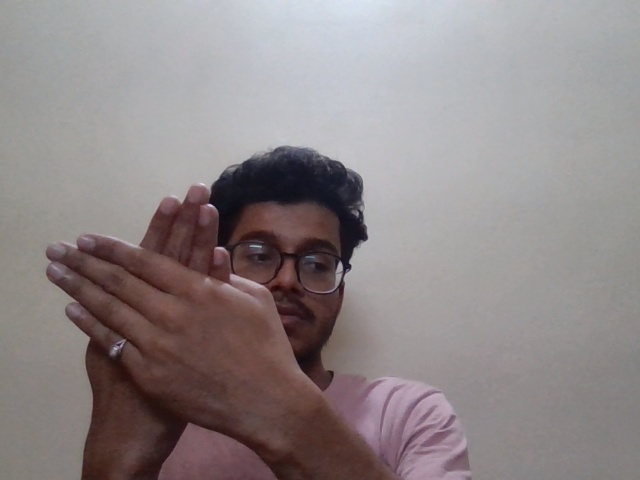what: (30, 182, 288, 395)
